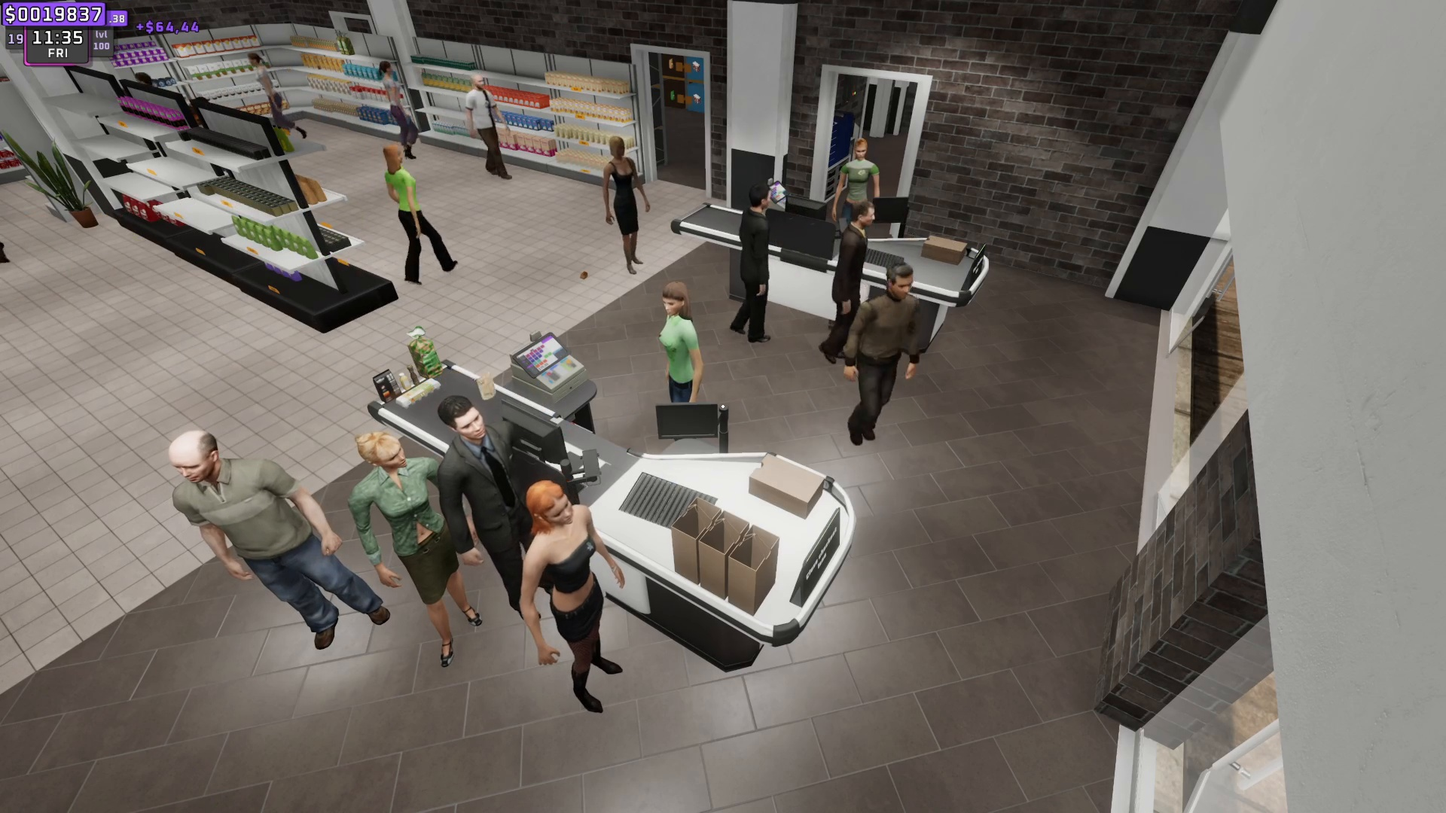Client: (181, 443, 382, 634), (526, 491, 657, 718), (354, 438, 482, 645), (456, 407, 572, 621), (854, 262, 915, 457), (593, 136, 652, 270), (728, 184, 778, 335), (834, 200, 875, 364)
Employee: (645, 273, 705, 404), (838, 149, 880, 210)
